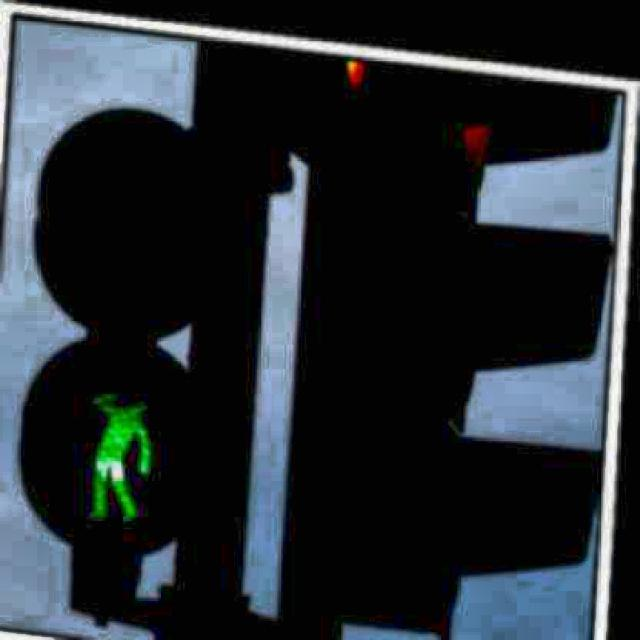semaforo pedestre: (0, 79, 262, 576)
